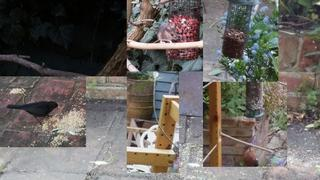blackbird: (6, 100, 62, 126)
mouse: (143, 24, 179, 51)
